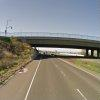Bridge: (11, 24, 99, 67)
